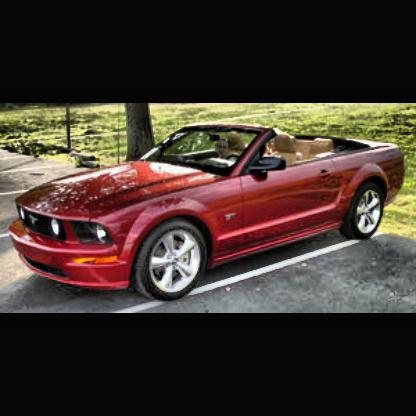Ford Mustang Convertible 2007: (12, 123, 408, 300)
